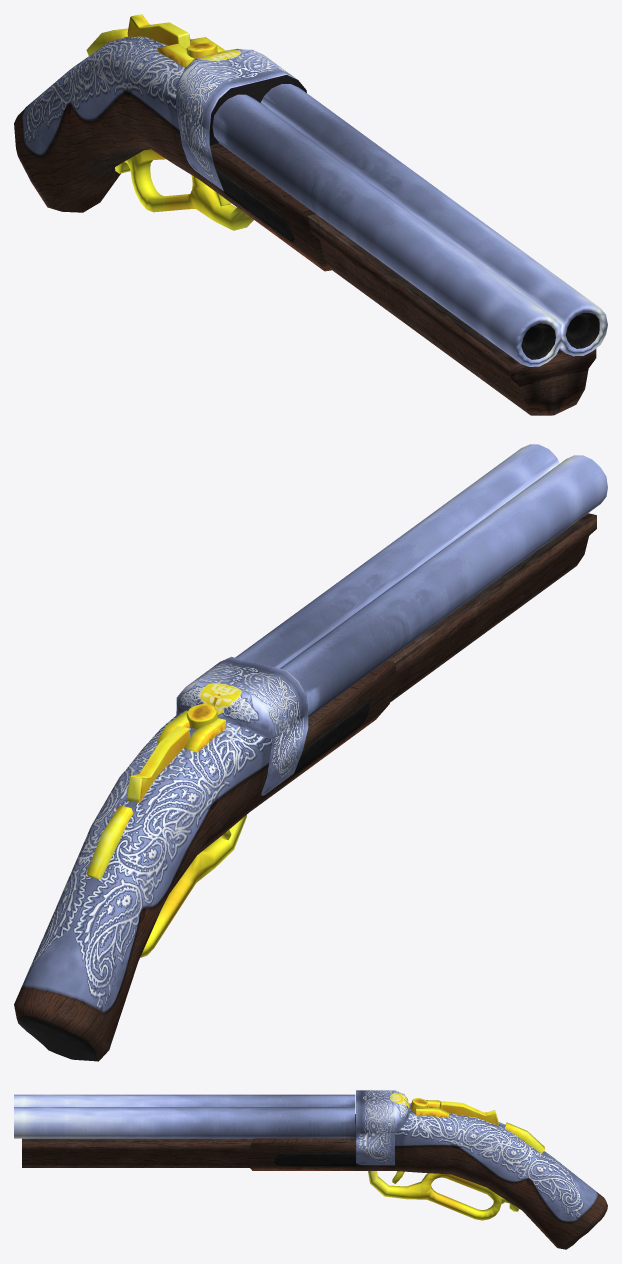
File: sawedS.fbx
3 renders of one model, top to bottom at view 1: azimuth 30°, elevation 25°; view 2: azimuth 150°, elevation 25°; view 3: azimuth 270°, elevation 25°, orthographic. The views are drawn at different scales.
Visible parts, largest first — view 1: Part1_resources_assets_2256:Part1_0, Sawed_Off_Shotgun_resources_assets_2186:Sawed_Off_Shotgun_0; view 2: Sawed_Off_Shotgun_resources_assets_2186:Sawed_Off_Shotgun_0, Part1_resources_assets_2256:Part1_0; view 3: Sawed_Off_Shotgun_resources_assets_2186:Sawed_Off_Shotgun_0, Part1_resources_assets_2256:Part1_0.
Boxes of the visible parts, bbox=[...] form: Part1_resources_assets_2256:Part1_0: bbox=[212, 84, 607, 415]; Sawed_Off_Shotgun_resources_assets_2186:Sawed_Off_Shotgun_0: bbox=[14, 14, 331, 271]; Sawed_Off_Shotgun_resources_assets_2186:Sawed_Off_Shotgun_0: bbox=[14, 656, 397, 1061]; Part1_resources_assets_2256:Part1_0: bbox=[235, 444, 607, 717]; Sawed_Off_Shotgun_resources_assets_2186:Sawed_Off_Shotgun_0: bbox=[247, 1090, 607, 1249]; Part1_resources_assets_2256:Part1_0: bbox=[14, 1094, 355, 1167].
Size of the model in its own units: 0.0815 by 0.2083 by 0.7501.
